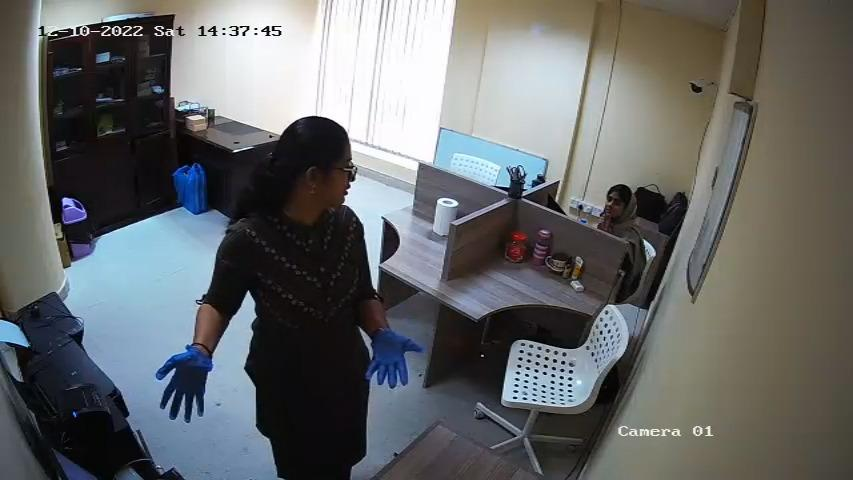gloves: (155, 340, 216, 425), (359, 330, 427, 389)
